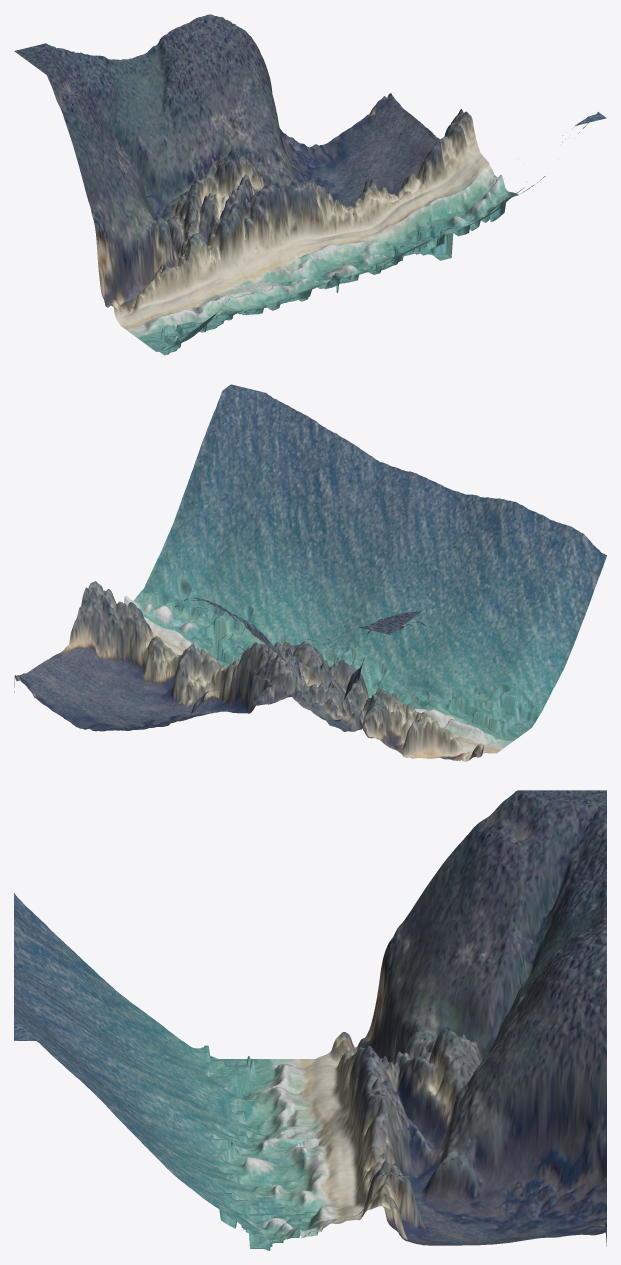
Rendered from dsm_156fe77551_mesh.glb.
3 views of the same model, one above another, from view 1: azimuth 30°, elevation 25°; view 2: azimuth 150°, elevation 25°; view 3: azimuth 270°, elevation 25° (orthographic). The views are drawn at different scales.
Parts seen in each view (by area): view 1: geometry_0; view 2: geometry_0; view 3: geometry_0.
Boxes of the visible parts, left/top/right/bottom form: geometry_0: left=14, top=14, right=606, bottom=355; geometry_0: left=14, top=384, right=606, bottom=761; geometry_0: left=14, top=790, right=606, bottom=1250.
Bounding box in the file's own units: 2 × 1 × 2.
